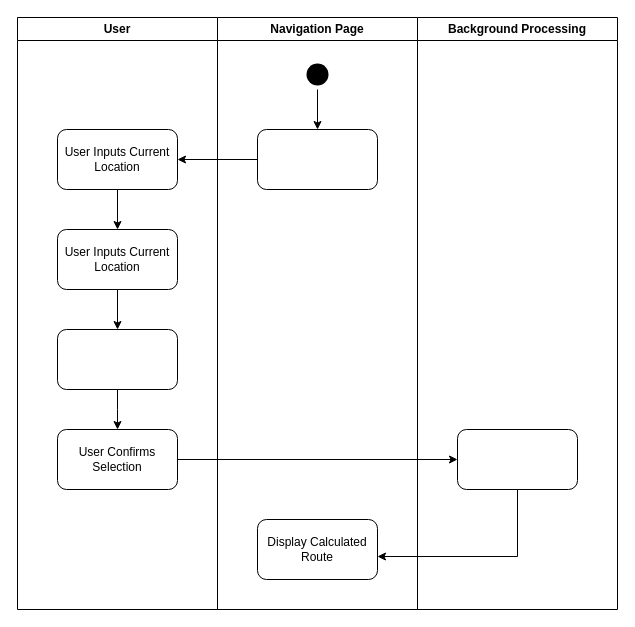
The diagram is 635 pixels wide and 627 high, and some of its shapes have lost their labels. The shapes that lost their labels are listed below. From the top down, each one's box as (x1, y1, x2, y2) in pixels, then its label:
(256, 128, 378, 190): Display Navigation Page
(56, 328, 178, 390): User Inputs Desired Destination
(456, 428, 578, 490): Calculate Route
